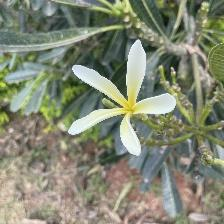champaka: (66, 40, 181, 160)
